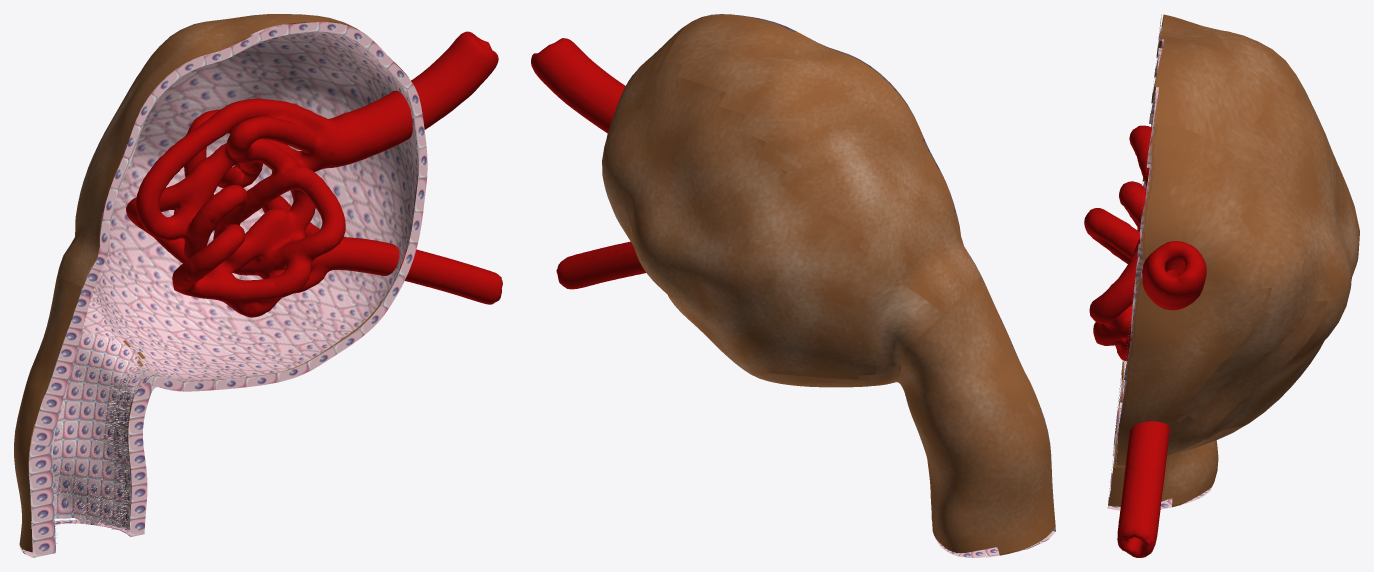
Rendered from glomerulus.glb.
3 renders of one model, left to right at view 1: azimuth 30°, elevation 25°; view 2: azimuth 150°, elevation 25°; view 3: azimuth 270°, elevation 25°, orthographic. The views are drawn at different scales.
Parts seen in each view (by area): view 1: CapsulaBowman, PodocitoLaminaViceral, CapaParietal, Microvellosidades; view 2: CapsulaBowman, PodocitoLaminaViceral, CapaParietal; view 3: CapsulaBowman, PodocitoLaminaViceral, CapaParietal.
Boxes of the visible parts, bbox=[...] form: CapsulaBowman: bbox=[14, 14, 418, 552]; PodocitoLaminaViceral: bbox=[126, 31, 502, 317]; CapaParietal: bbox=[19, 22, 427, 557]; Microvellosidades: bbox=[52, 332, 149, 543]; CapsulaBowman: bbox=[602, 14, 1055, 555]; PodocitoLaminaViceral: bbox=[531, 38, 646, 289]; CapaParietal: bbox=[694, 14, 1055, 557]; CapsulaBowman: bbox=[1108, 14, 1359, 507]; PodocitoLaminaViceral: bbox=[1084, 125, 1206, 557]; CapaParietal: bbox=[1107, 14, 1212, 510].
Size of the model in its own units: 11.8 by 10.66 by 4.77.
5 materials, 3 textured.
